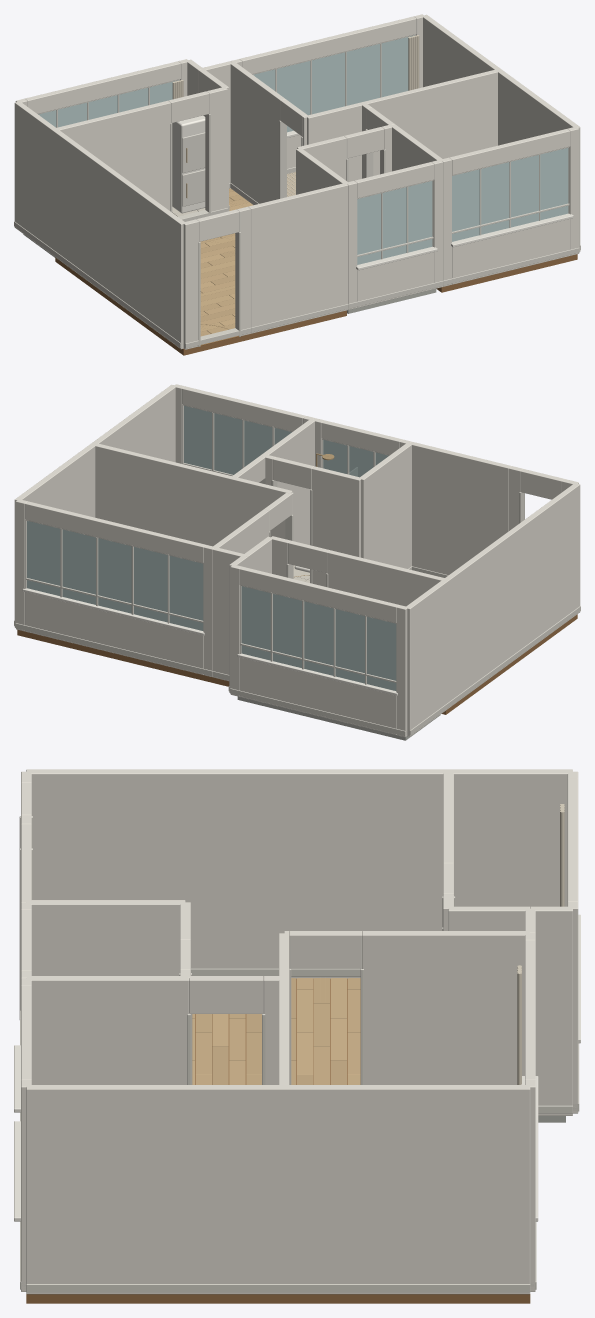
Rendered from new-home-shell.glb.
The picture shows the model from 3 angles, top to bottom: view 1: azimuth 30°, elevation 25°; view 2: azimuth 150°, elevation 25°; view 3: azimuth 270°, elevation 25°; orthographic projection. The views are drawn at different scales.
Parts seen in each view (by area): view 1: Plaster wall (×28), Pale glazing (×4), Skirting board (×5), Floor underlay (×2), Door jamb (×3), Refrigerator door (×2), Refrigerator, Stone window sill (×2); view 2: Plaster wall (×29), Pale glazing (×4), Skirting board (×3), Floor underlay (×2), Stone window sill (×2), Window rail; view 3: Plaster wall (×20), Floor underlay (×3), Skirting board (×2), Individual oak plank (×8), Stone window sill.
Boxes of the visible parts, x1,y1,x2,y2 form: Plaster wall (×28): (14,14,580,349); Pale glazing (×4): (38,35,568,264); Skirting board (×5): (14,221,579,348); Floor underlay (×2): (135,254,577,355); Door jamb (×3): (205,114,286,336); Refrigerator door (×2): (182,132,205,206); Refrigerator: (172,115,205,213); Stone window sill (×2): (356,213,573,270); Plaster wall (×29): (14,384,580,737); Pale glazing (×4): (27,406,396,690); Skirting board (×3): (15,606,580,735); Floor underlay (×2): (17,629,440,740); Stone window sill (×2): (22,588,397,695); Window rail: (26,578,203,622); Plaster wall (×20): (21,769,578,1294); Floor underlay (×3): (26,979,530,1303); Skirting board (×2): (26,968,530,1292); Individual oak plank (×8): (195,978,346,1074); Stone window sill: (14,1121,20,1221).
Bounding box in the file's own units: 8.54 × 2.69 × 6.38.
